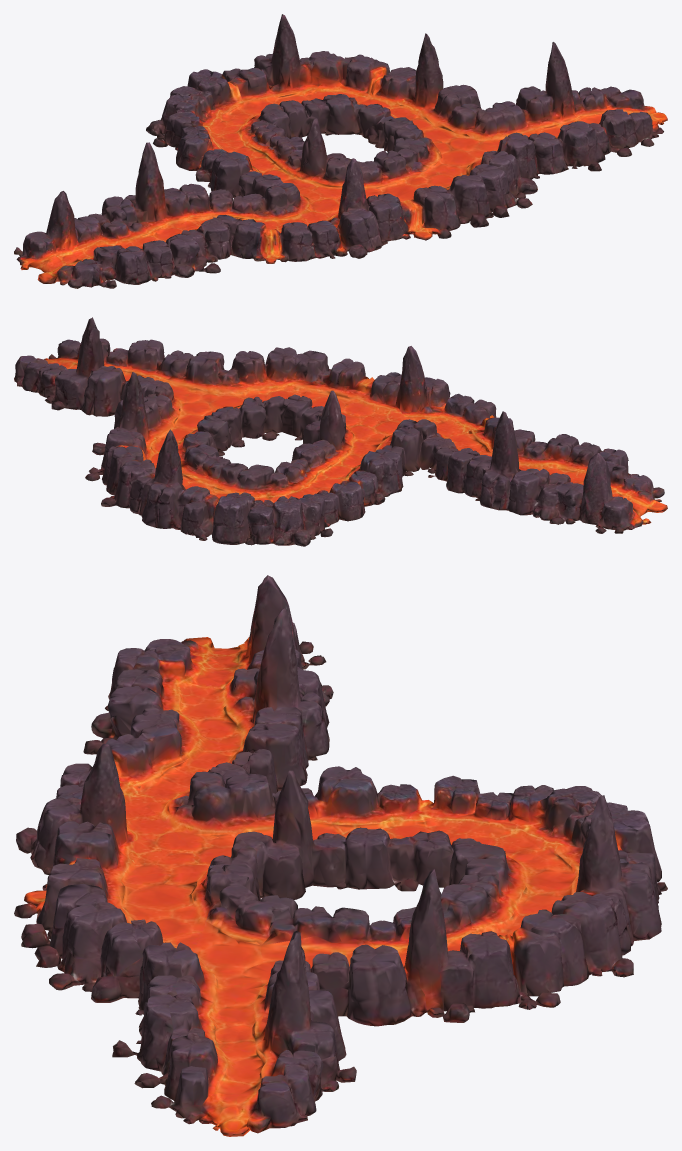
The model's file is lava_river_c.glb.
3 renders of one model, top to bottom at view 1: azimuth 30°, elevation 25°; view 2: azimuth 150°, elevation 25°; view 3: azimuth 270°, elevation 25°, orthographic. The views are drawn at different scales.
Visible parts, largest first — view 1: tripo_node_fbad8123-af2d-4482-a5ae-e3e275218002; view 2: tripo_node_fbad8123-af2d-4482-a5ae-e3e275218002; view 3: tripo_node_fbad8123-af2d-4482-a5ae-e3e275218002.
Boxes of the visible parts, x1=… form: tripo_node_fbad8123-af2d-4482-a5ae-e3e275218002: x1=14, y1=14, x2=667, y2=288; tripo_node_fbad8123-af2d-4482-a5ae-e3e275218002: x1=14, y1=317, x2=667, y2=546; tripo_node_fbad8123-af2d-4482-a5ae-e3e275218002: x1=14, y1=575, x2=667, y2=1136.
Bounding box in the file's own units: 0.9673 × 0.1269 × 0.5376.
1 material, 1 textured.
